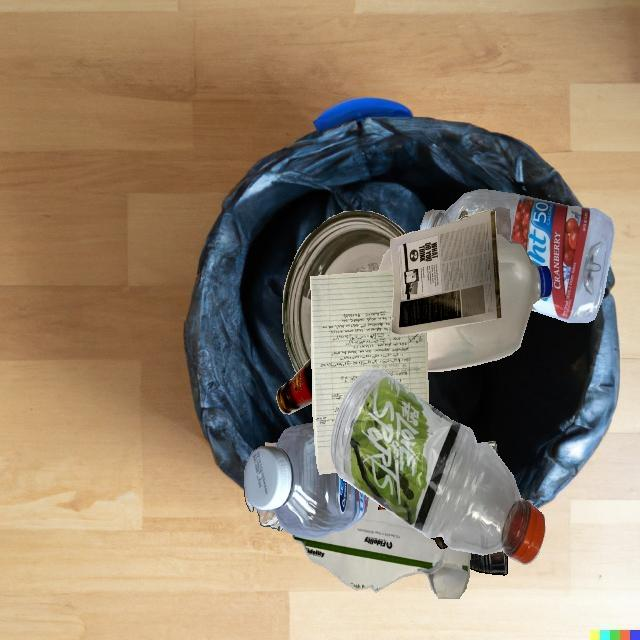glass: (282, 210, 406, 373), (276, 356, 312, 414), (492, 207, 511, 241)
metal: (470, 551, 507, 575)
paper: (310, 270, 429, 474), (292, 497, 470, 599), (390, 209, 501, 336), (245, 443, 277, 516)
plastic: (330, 369, 546, 565), (420, 189, 615, 323), (427, 234, 553, 372), (244, 422, 369, 537), (407, 391, 407, 391)
trash: (431, 536, 448, 549)
